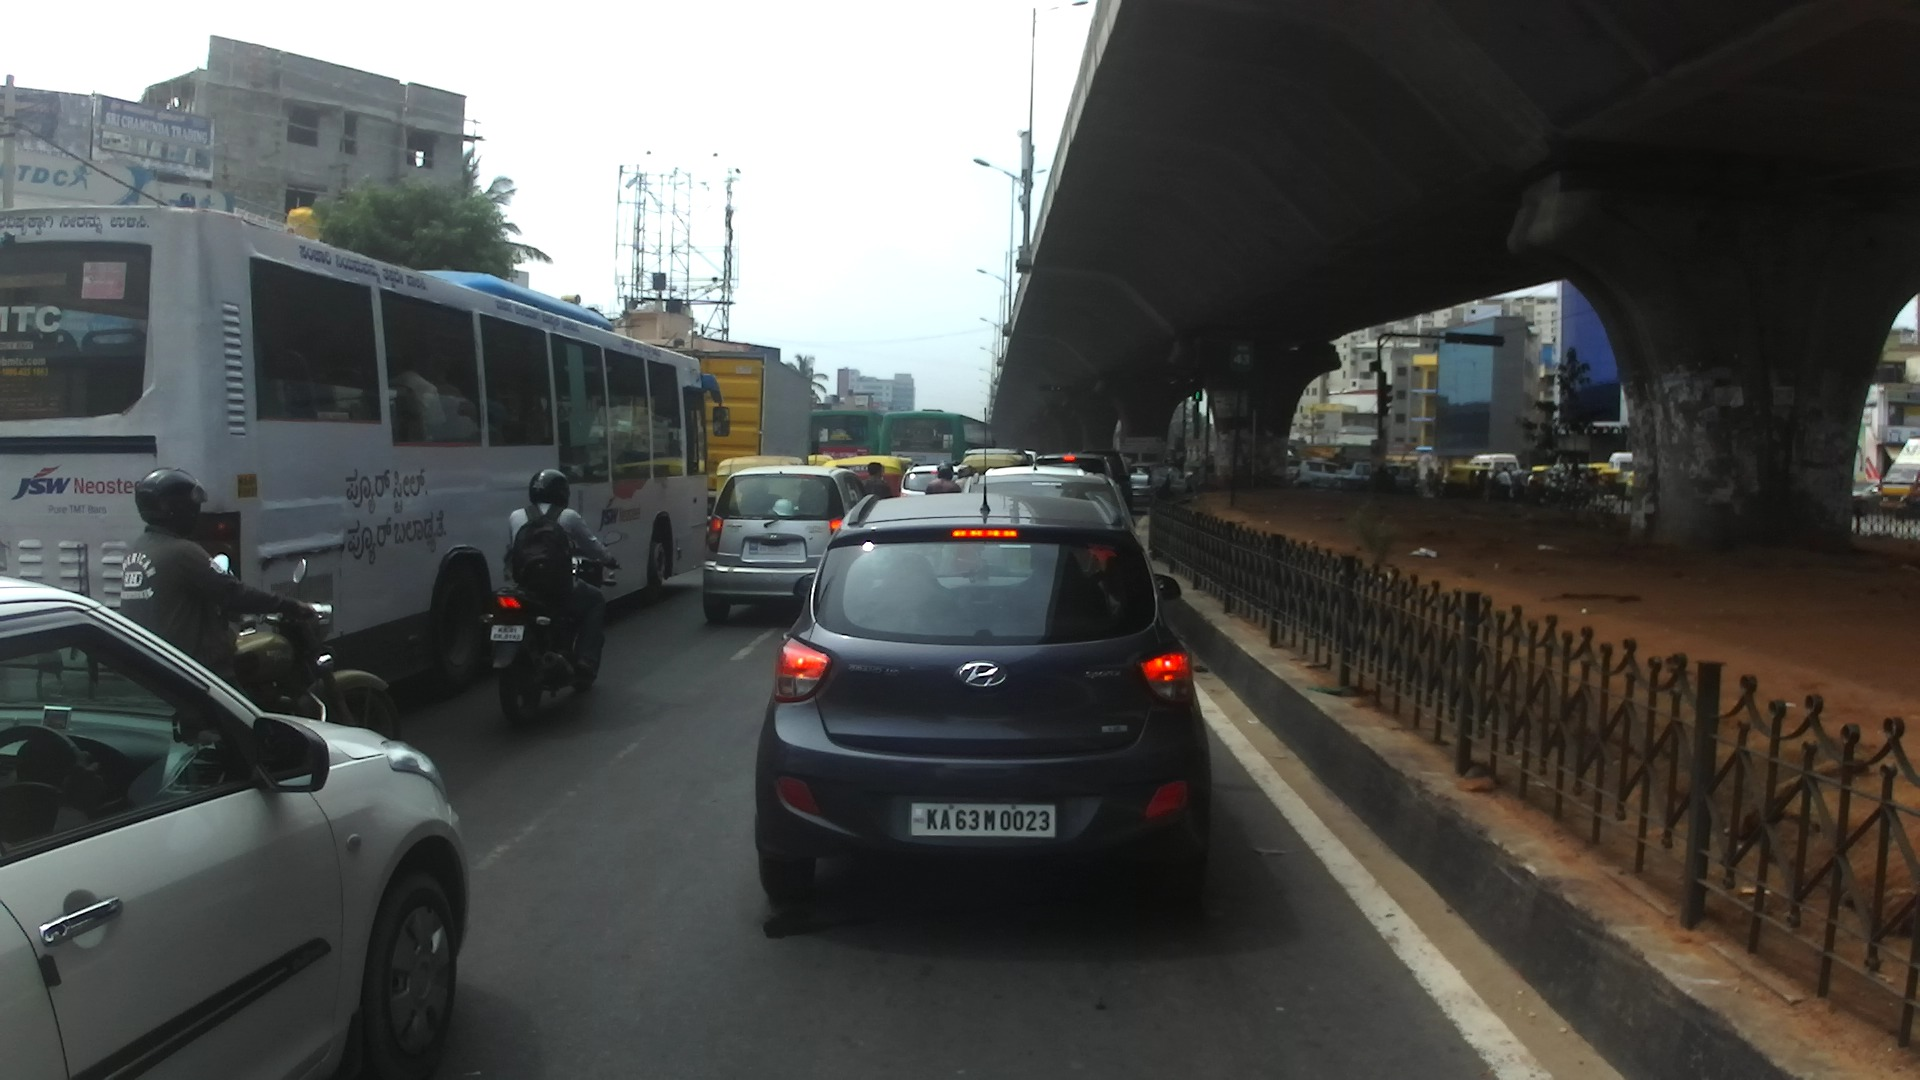autorickshaw: (716, 454, 802, 522), (820, 455, 915, 516), (959, 455, 1028, 494), (1444, 464, 1502, 503), (1579, 463, 1611, 498), (1530, 465, 1561, 498), (1597, 469, 1625, 503), (807, 454, 834, 472), (1625, 470, 1634, 502)
bus: (1, 203, 731, 687), (881, 408, 998, 490), (810, 401, 884, 477), (1464, 454, 1520, 492), (1607, 452, 1637, 495)
car: (1, 577, 469, 1080), (752, 407, 1216, 904), (702, 465, 869, 625), (961, 470, 1135, 556), (1034, 453, 1115, 511), (1077, 449, 1134, 519), (900, 465, 971, 507), (1127, 462, 1185, 506), (982, 457, 1085, 481), (962, 448, 1031, 483), (1286, 457, 1345, 490), (1853, 478, 1884, 514), (1335, 459, 1374, 484), (1022, 451, 1039, 466)
motorcycle: (210, 551, 399, 777), (488, 532, 622, 727)
person: (1511, 462, 1531, 500), (1495, 466, 1512, 499), (1430, 465, 1444, 500), (1514, 463, 1529, 497), (1478, 469, 1490, 492)
rider: (119, 465, 314, 710), (501, 470, 614, 684), (923, 464, 961, 498), (860, 463, 892, 504), (955, 465, 974, 495), (1424, 467, 1438, 494), (1527, 471, 1543, 491), (1554, 472, 1566, 494), (1545, 473, 1557, 494)
traffic light: (1460, 333, 1505, 346), (1384, 373, 1393, 415), (1445, 331, 1463, 343), (1193, 390, 1203, 399)
truck: (677, 350, 809, 532), (1880, 437, 1920, 520)
vehicle fallback: (1385, 463, 1418, 494)
